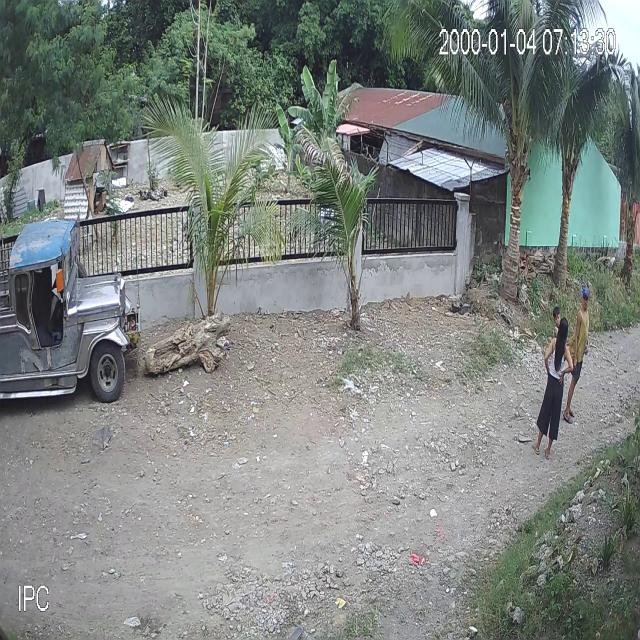standing: (532, 315, 575, 462), (562, 284, 590, 426), (549, 302, 570, 422)
